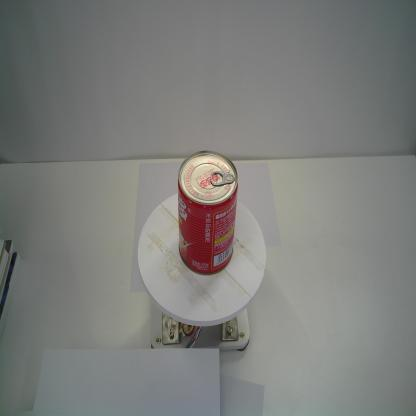Canned Food: (177, 148, 240, 278)
